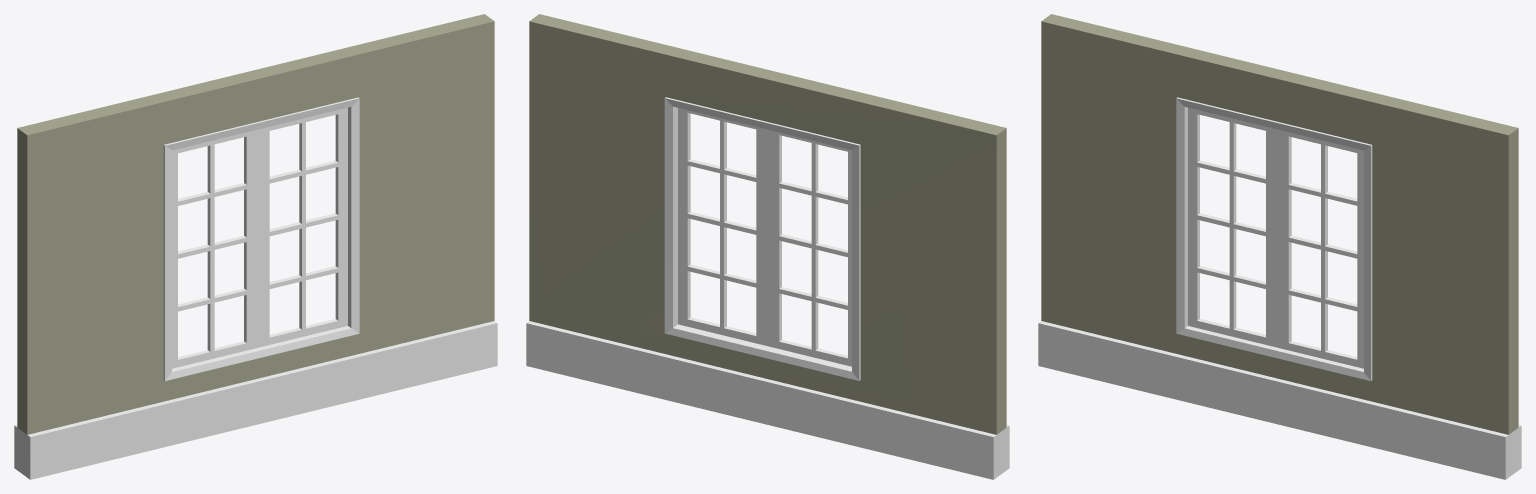
The model's file is Window_wall_Asset 1.fbx.
3 views of the same model, side by side, from view 1: azimuth 30°, elevation 25°; view 2: azimuth 150°, elevation 25°; view 3: azimuth 330°, elevation 25° (orthographic).
Parts seen in each view (by area): view 1: windowwall; view 2: windowwall; view 3: windowwall.
Boxes of the visible parts, x1,y1,x2,y2 form: windowwall: (14, 14, 497, 479); windowwall: (526, 14, 1009, 479); windowwall: (1038, 14, 1521, 479).
Bounding box in the file's own units: 500 × 350 × 30.
